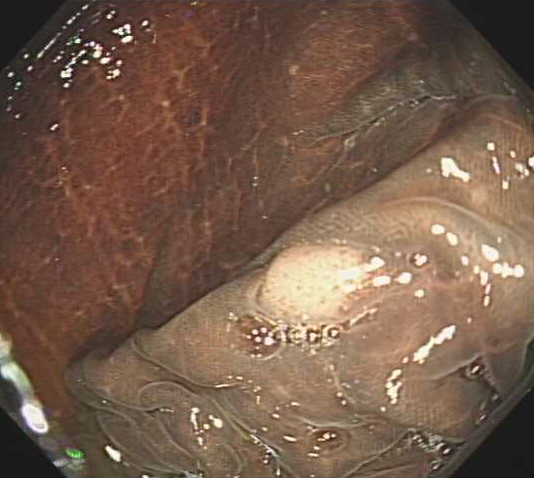others: (258, 241, 369, 323)
